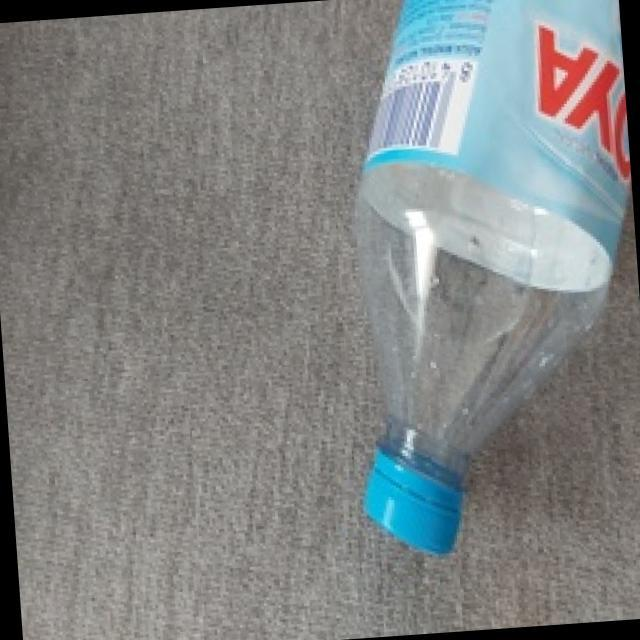good: (290, 0, 640, 569)
